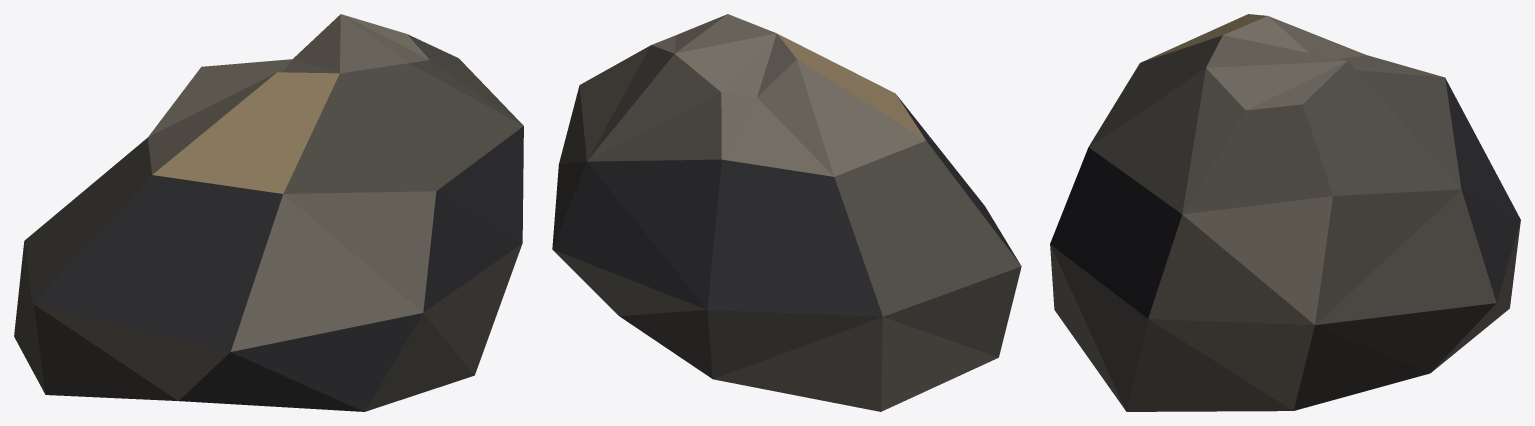
The model's file is SM_Rock_B.fbx.
3 views of the same model, side by side, from view 1: azimuth 30°, elevation 25°; view 2: azimuth 150°, elevation 25°; view 3: azimuth 270°, elevation 25° (orthographic). The views are drawn at different scales.
Visible parts, largest first — view 1: SM_Rock_B; view 2: SM_Rock_B; view 3: SM_Rock_B.
Boxes of the visible parts, <box> form: SM_Rock_B: <box>14,14,523,411</box>; SM_Rock_B: <box>552,14,1021,411</box>; SM_Rock_B: <box>1050,14,1520,411</box>.
Size of the model in its own units: 3 by 1.75 by 2.25.
